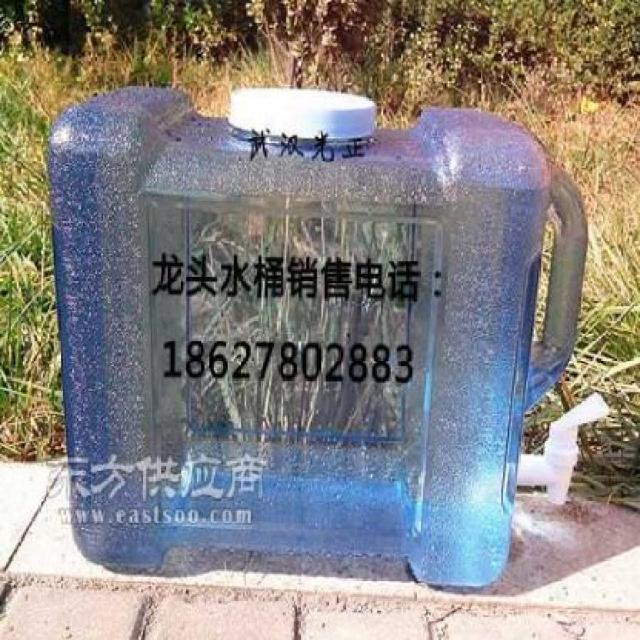coolerbottle: (42, 77, 590, 591)
